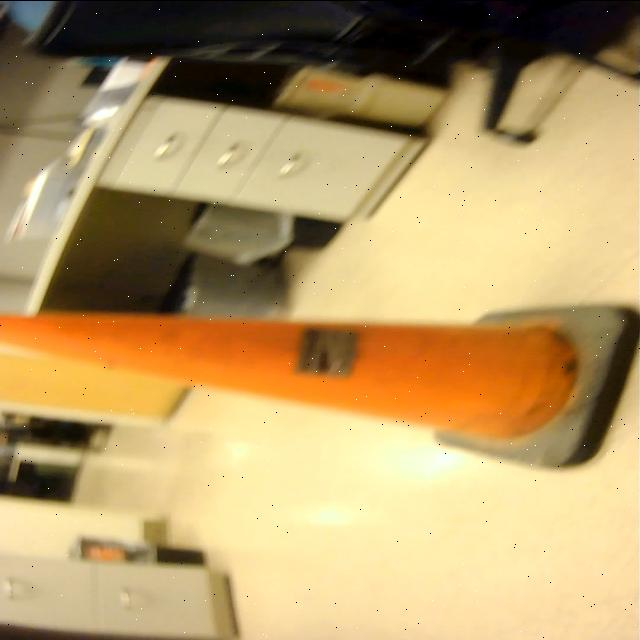traffic cone: (1, 295, 640, 475)
